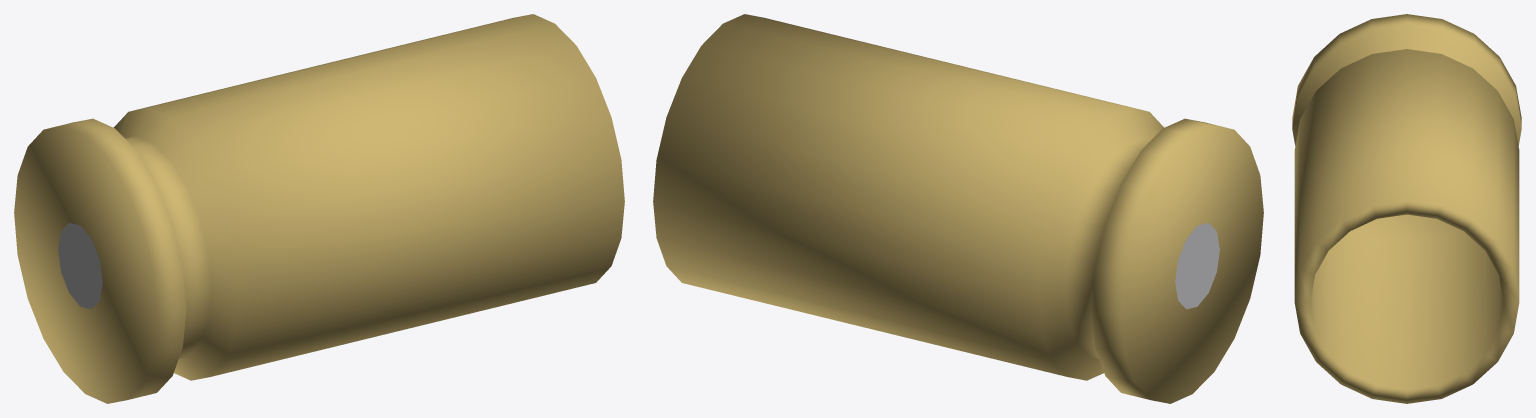
Rendered from SM_FX_CasingPistol.glb.
The picture shows the model from 3 angles, left to right: view 1: azimuth 30°, elevation 25°; view 2: azimuth 150°, elevation 25°; view 3: azimuth 270°, elevation 25°; orthographic projection. The views are drawn at different scales.
Parts seen in each view (by area): view 1: SM_FX_CasingPistol; view 2: SM_FX_CasingPistol; view 3: SM_FX_CasingPistol.
Part boxes in pixels (x1=…): SM_FX_CasingPistol: x1=14, y1=14, x2=624, y2=403; SM_FX_CasingPistol: x1=653, y1=14, x2=1263, y2=403; SM_FX_CasingPistol: x1=1292, y1=14, x2=1521, y2=403.
Bounding box in the file's own units: 0.0192 × 0.01 × 0.01.
